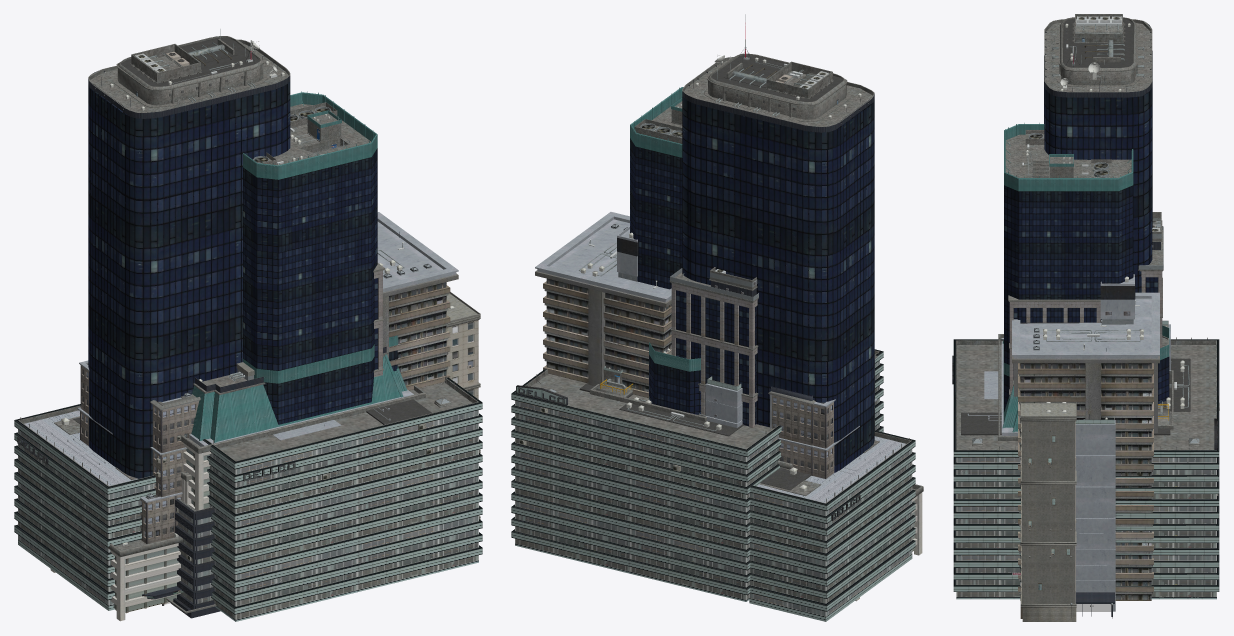
Rendered from bld_grc.glb.
3 renders of one model, left to right at view 1: azimuth 30°, elevation 25°; view 2: azimuth 150°, elevation 25°; view 3: azimuth 270°, elevation 25°, orthographic. The views are drawn at different scales.
Parts seen in each view (by area): view 1: grc_11, grc_13, grc_01, grc_22, grc_08, grc_10, grc_21, grc_07; view 2: grc_11, grc_13, grc_01, grc_02, grc_10, grc_22, grc_08; view 3: grc_13, grc_11, grc_01, grc_08, grc_22, grc_12, grc_02.
Boxes of the visible parts, <box> form: grc_11: <box>88,29,458,478</box>; grc_13: <box>14,375,482,621</box>; grc_01: <box>166,91,398,613</box>; grc_22: <box>180,347,425,510</box>; grc_08: <box>50,292,480,621</box>; grc_10: <box>77,360,200,605</box>; grc_21: <box>171,498,220,618</box>; grc_07: <box>179,499,214,608</box>; grc_11: <box>535,14,874,472</box>; grc_13: <box>511,349,915,621</box>; grc_01: <box>630,87,700,414</box>; grc_02: <box>669,267,758,427</box>; grc_10: <box>768,355,877,478</box>; grc_22: <box>590,376,742,427</box>; grc_08: <box>855,484,923,601</box>; grc_13: <box>952,337,1219,618</box>; grc_11: <box>1012,14,1159,600</box>; grc_01: <box>1004,123,1169,411</box>; grc_08: <box>1020,402,1076,621</box>; grc_22: <box>998,320,1173,440</box>; grc_12: <box>1008,295,1100,398</box>; grc_02: <box>1138,212,1163,348</box>.
Size of the model in its own units: 51.88 by 74.26 by 35.29.
Materials: 61 (60 with a texture image).
